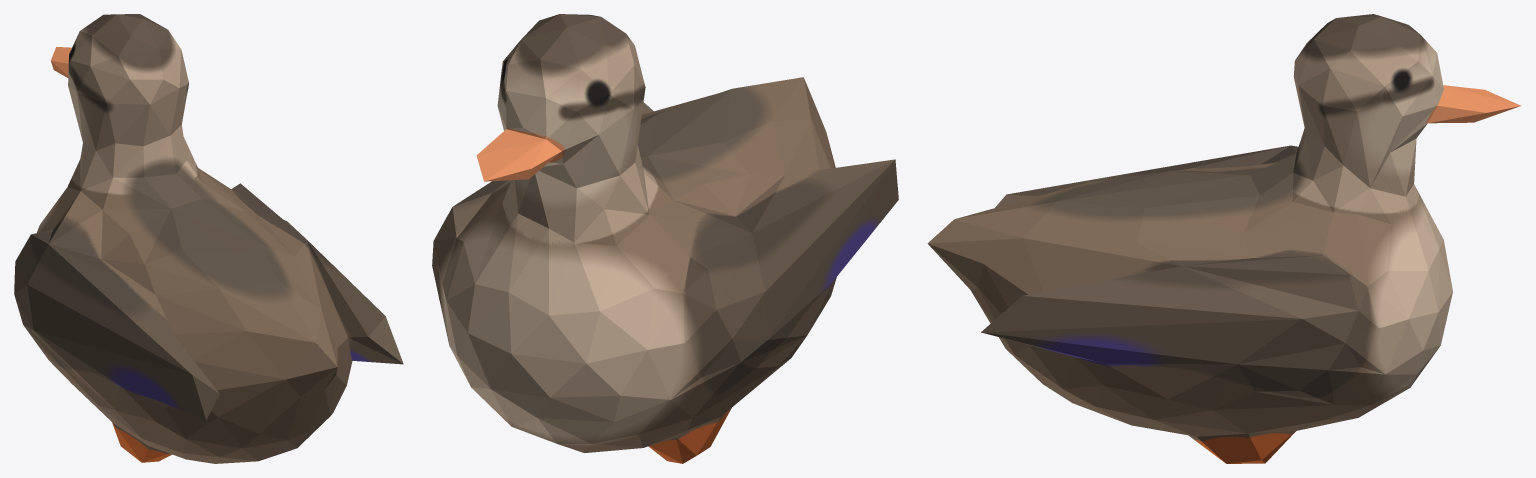
File: animal_duck_hen_blob.obj
3 views of the same model, side by side, from view 1: azimuth 30°, elevation 25°; view 2: azimuth 150°, elevation 25°; view 3: azimuth 270°, elevation 25° (orthographic). The views are drawn at different scales.
Visible parts, largest first — view 1: animal_duck_hen_blob; view 2: animal_duck_hen_blob; view 3: animal_duck_hen_blob.
Boxes of the visible parts, box(x1,y1,x2,y2) form: animal_duck_hen_blob: box(14, 14, 403, 463); animal_duck_hen_blob: box(432, 14, 898, 463); animal_duck_hen_blob: box(927, 14, 1521, 463).
Size of the model in its own units: 0.3424 by 0.4903 by 0.623.
